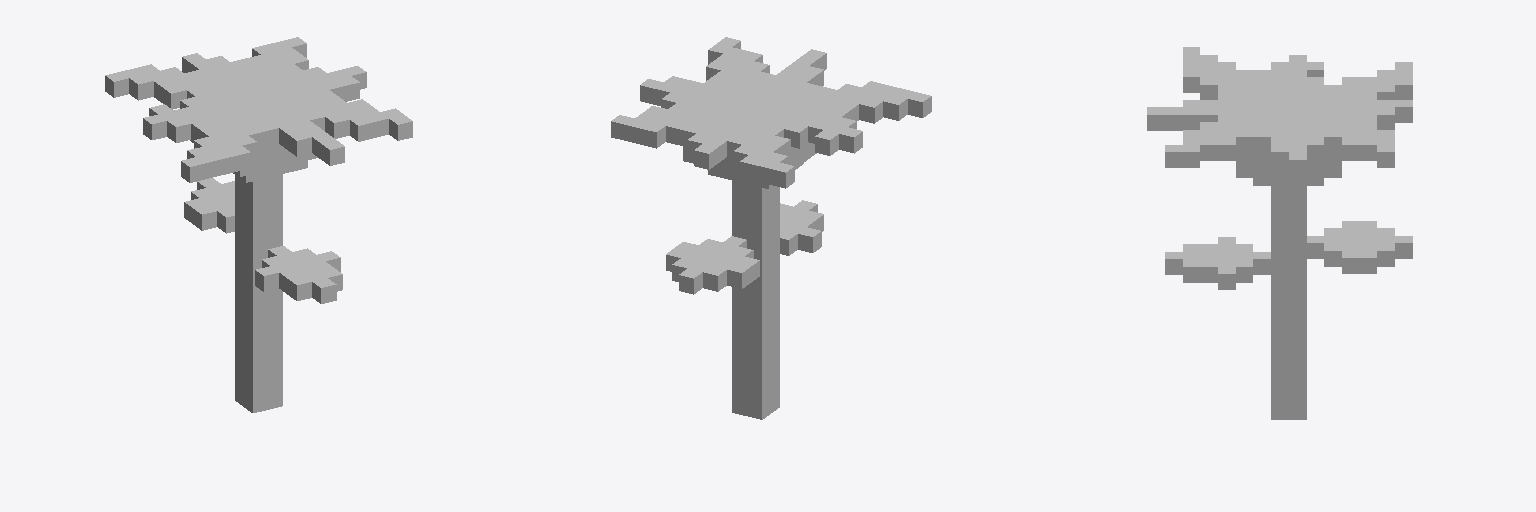
The model's file is flower2.obj.
3 views of the same model, side by side, from view 1: azimuth 30°, elevation 25°; view 2: azimuth 150°, elevation 25°; view 3: azimuth 270°, elevation 25° (orthographic).
Bounding box in the file's own units: 15 × 19 × 15.